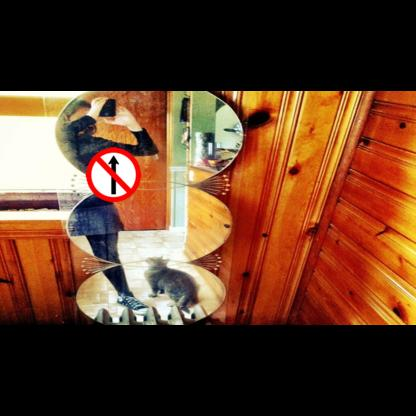R-3: (86, 147, 141, 202)
